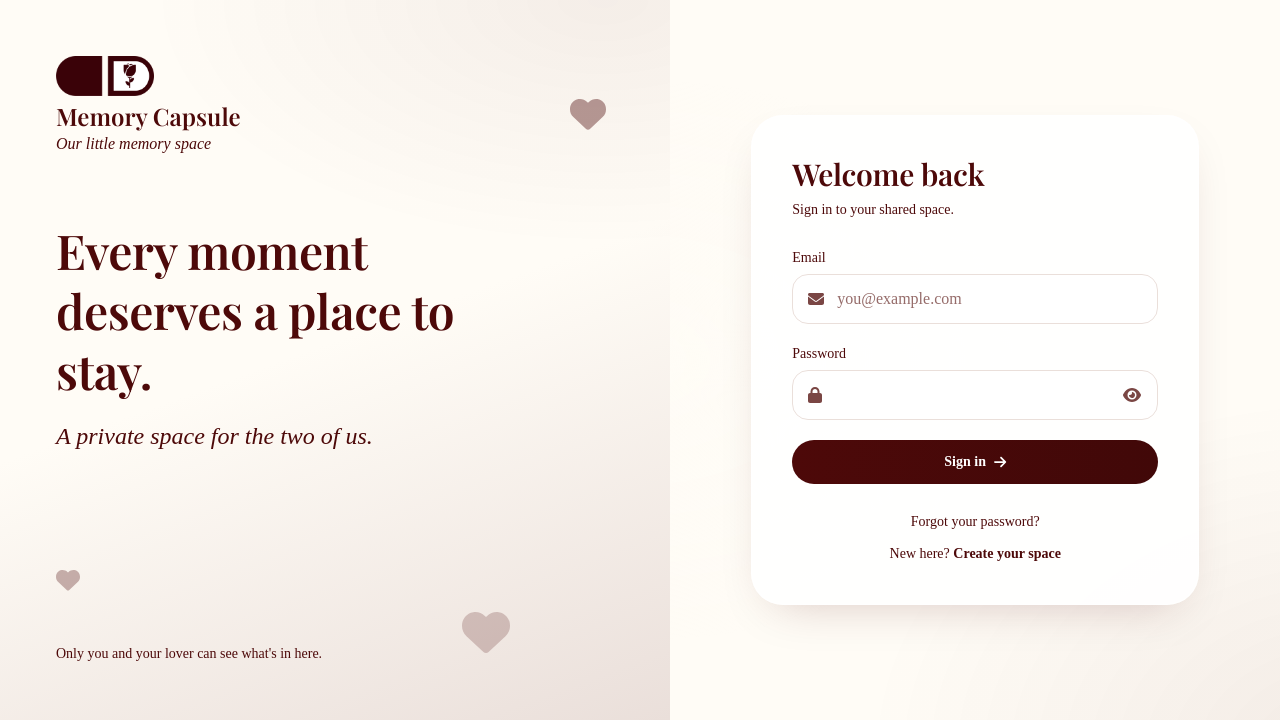
Scenario: login › shows a network message when the server cannot be reached
The image size is (1280, 720).
Type "rectojustine84@gmail.com" into the field labelled "Email" at [975, 299], box [792,274,1158,324]
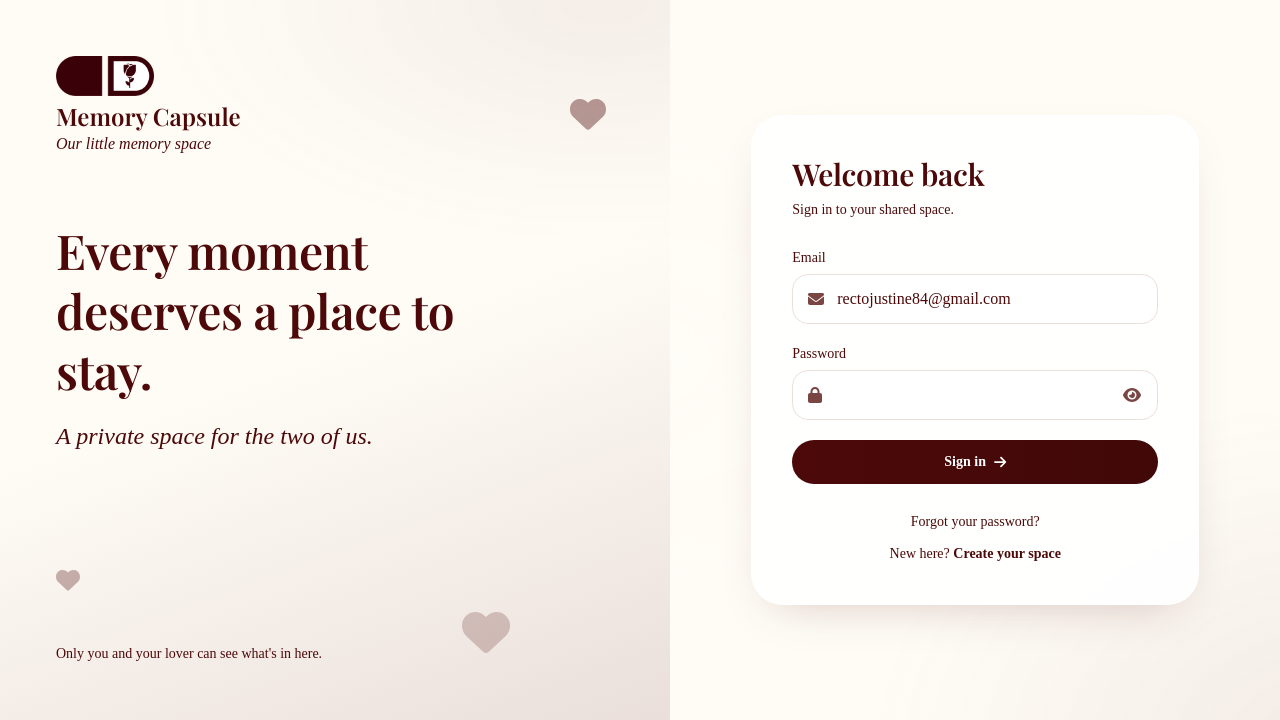
Type "secret123" into the password field labelled "Password" at [975, 395], box [792,370,1158,420]
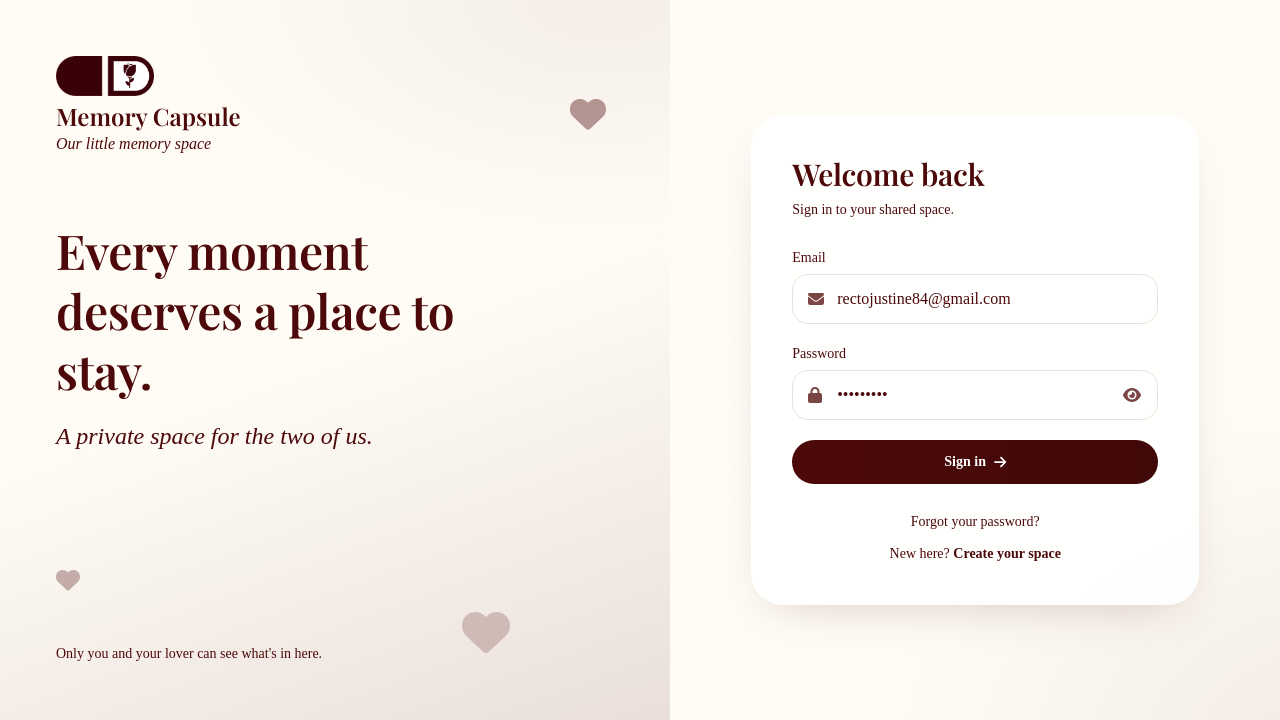
Click the button "Sign in" at [975, 462], box [792,440,1158,484]
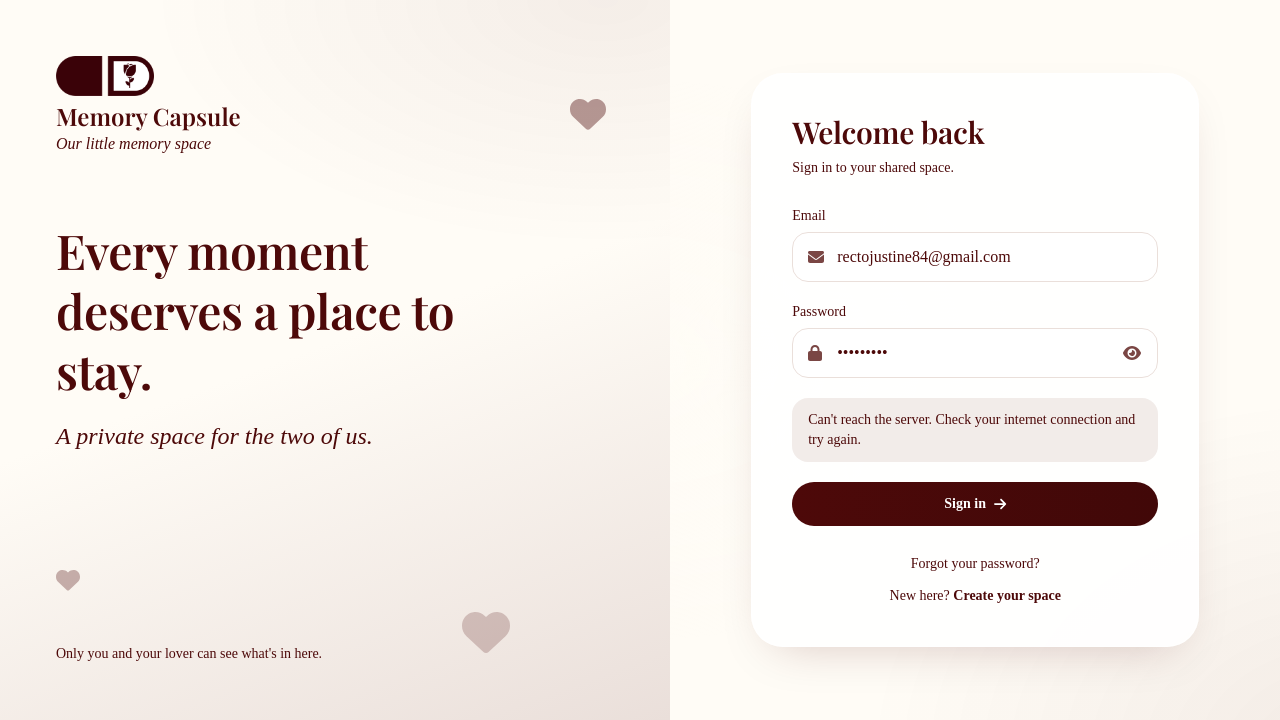
expect the text "Can't reach the server. Check your internet connection and try again." is shown: met, box [792,398,1158,462]
